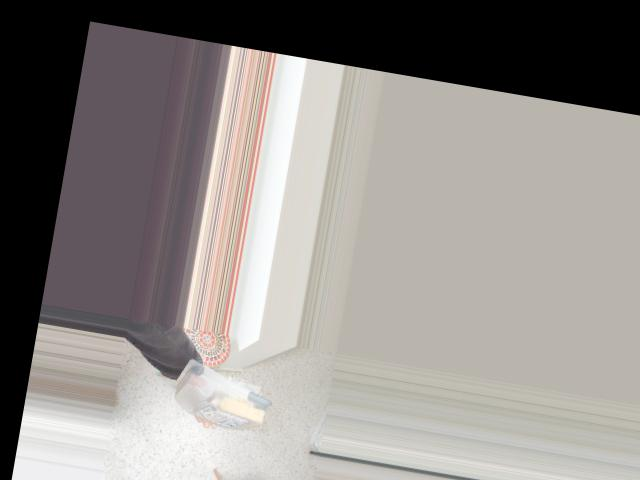cheese: (170, 350, 281, 435)
